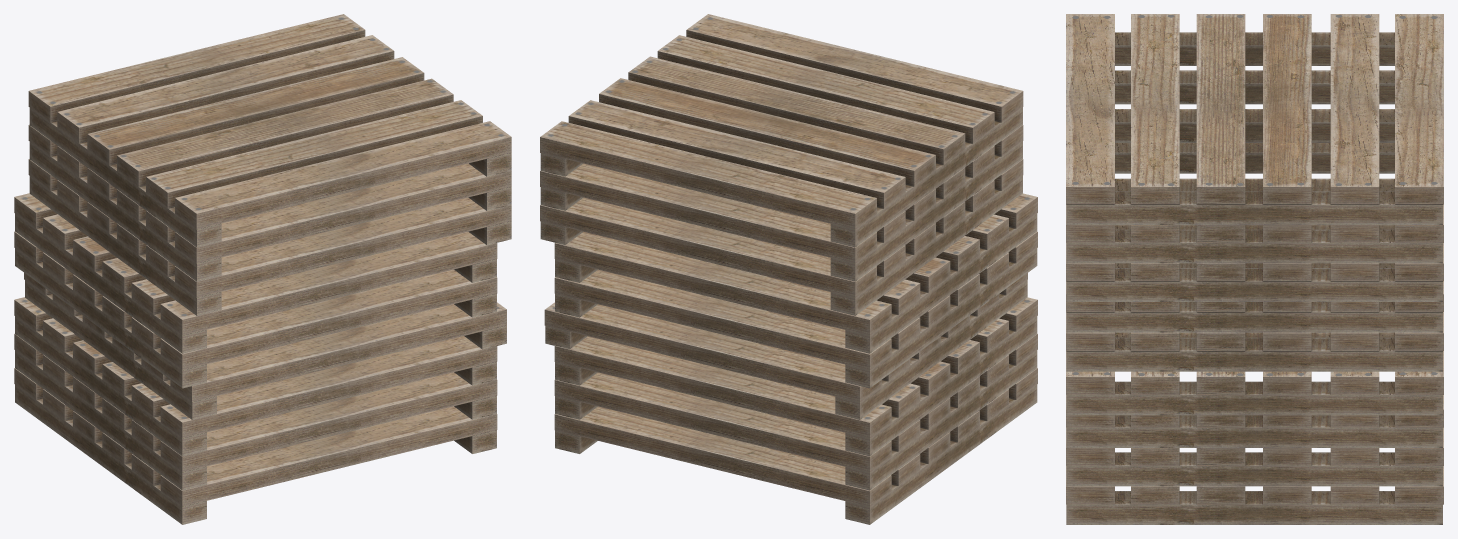
3 views of the same model, side by side, from view 1: azimuth 30°, elevation 25°; view 2: azimuth 150°, elevation 25°; view 3: azimuth 270°, elevation 25° (orthographic). The views are drawn at different scales.
Parts seen in each view (by area): view 1: palet9; view 2: palet9; view 3: palet9.
Part boxes in pixels (x1,y1,x2,y2): palet9: [14, 14, 511, 524]; palet9: [540, 14, 1037, 524]; palet9: [1066, 14, 1443, 524].
Size of the model in its own units: 420 by 375 by 371.
1 material, 1 textured.
